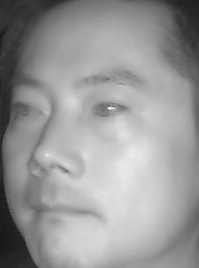eye: (88, 95, 133, 125), (7, 96, 49, 122)
mouth: (25, 185, 107, 231)
